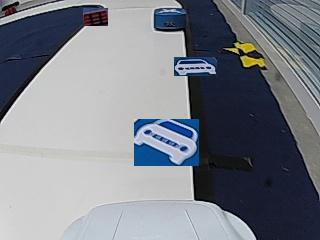prop: (154, 7, 186, 32)
